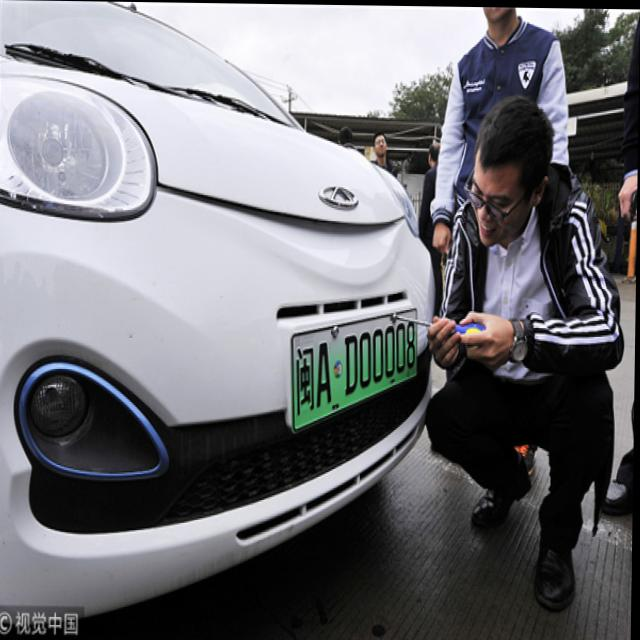licence: (288, 299, 418, 440)
